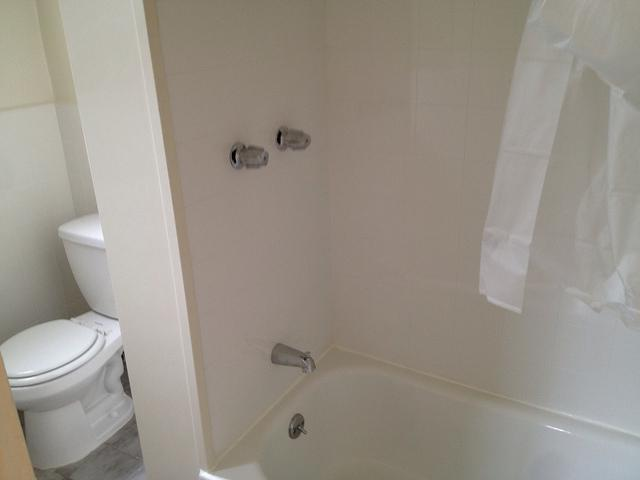Sanitario: (1, 210, 154, 469)
